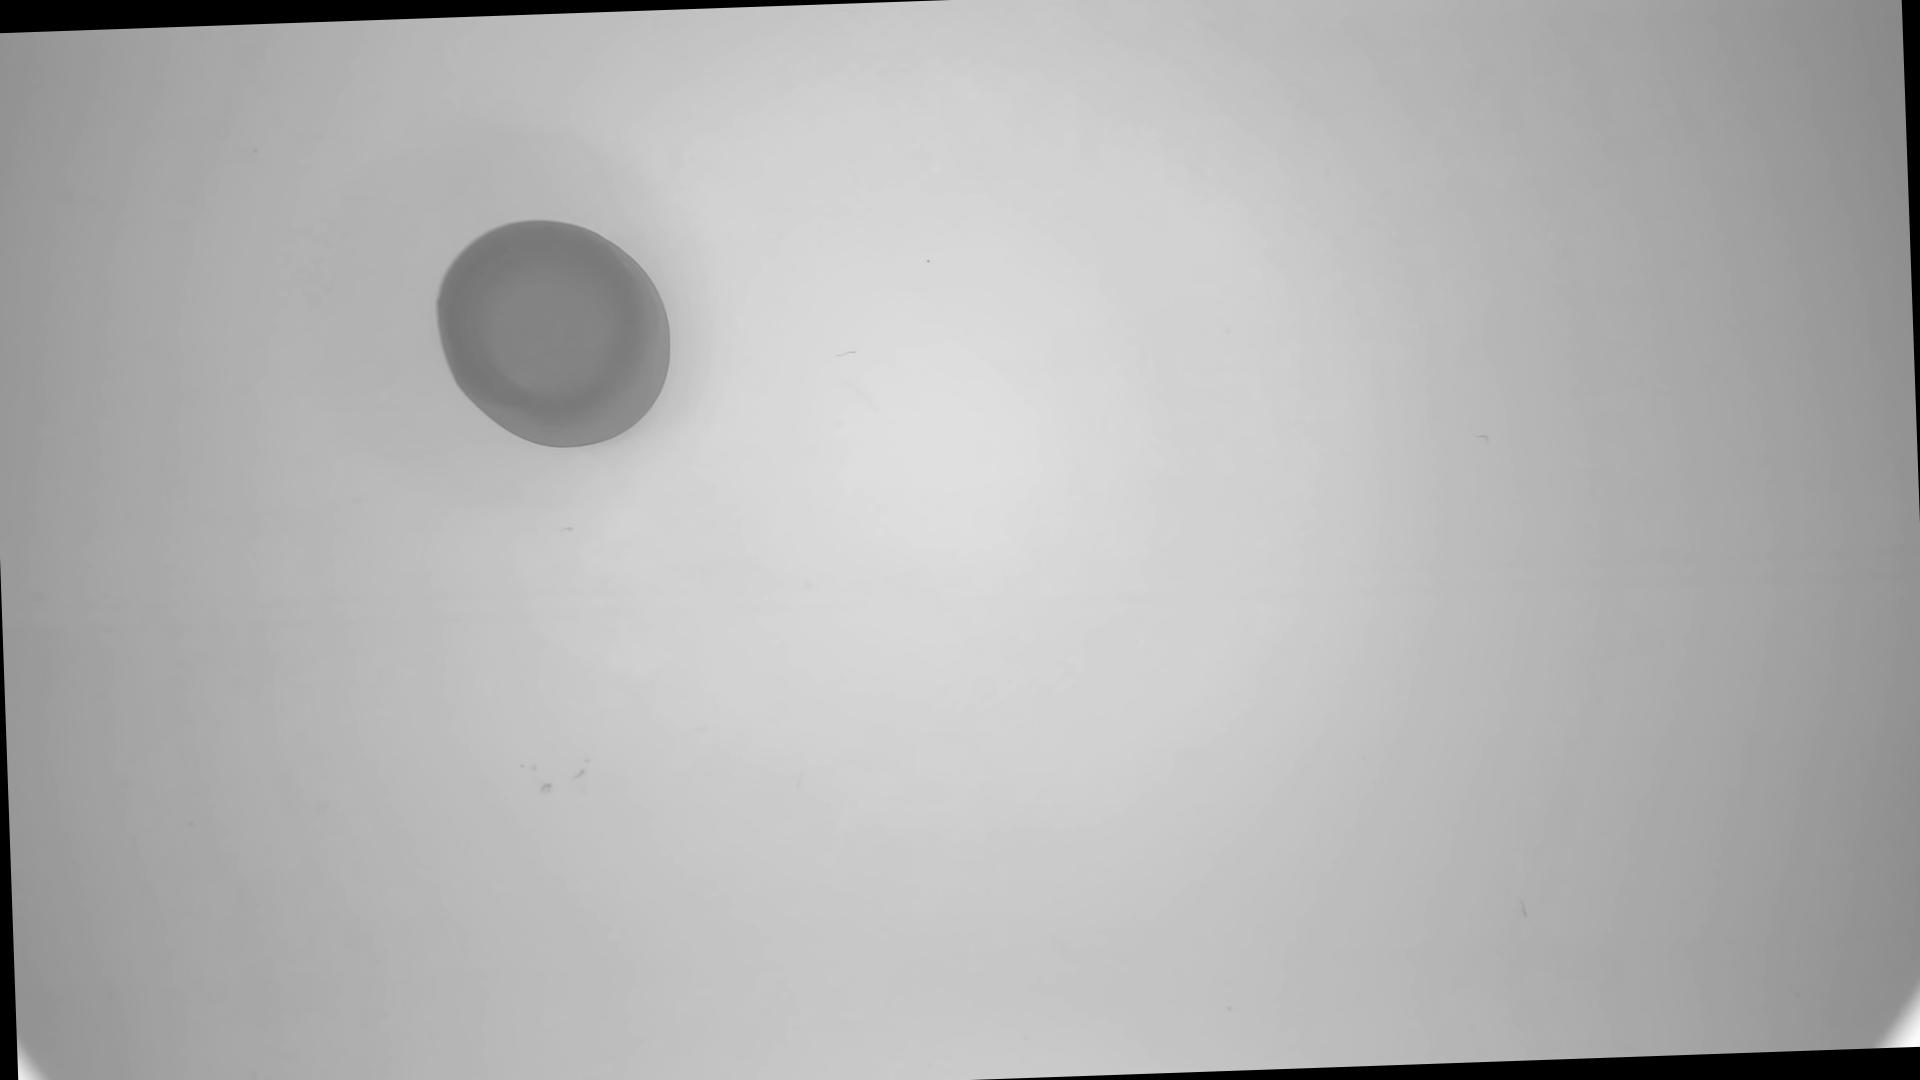normal: (430, 214, 680, 459)
